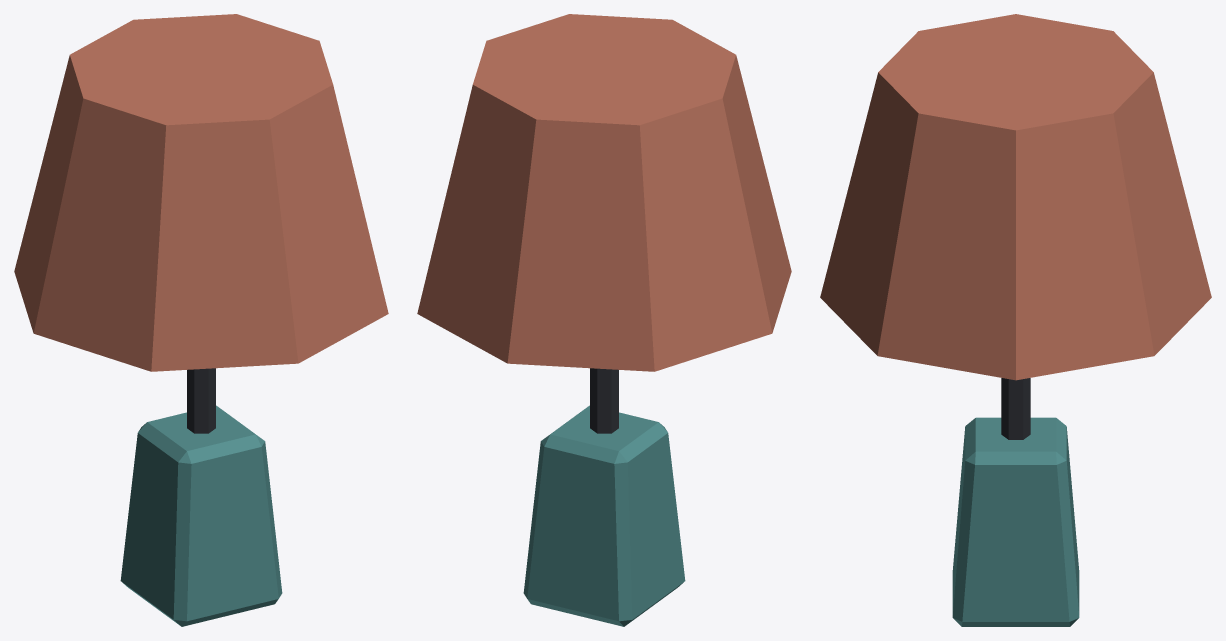
File: table-lamp-12.glb
3 views of the same model, side by side, from view 1: azimuth 30°, elevation 25°; view 2: azimuth 150°, elevation 25°; view 3: azimuth 270°, elevation 25° (orthographic).
Parts seen in each view (by area): view 1: table_lamp_12; view 2: table_lamp_12; view 3: table_lamp_12.
Part boxes in pixels (x1,y1,x2,y2): table_lamp_12: [14, 14, 388, 626]; table_lamp_12: [417, 14, 791, 626]; table_lamp_12: [820, 14, 1211, 626].
Size of the model in its own units: 0.3199 by 0.479 by 0.3199.
